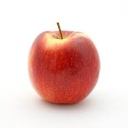apple: (28, 23, 102, 106)
